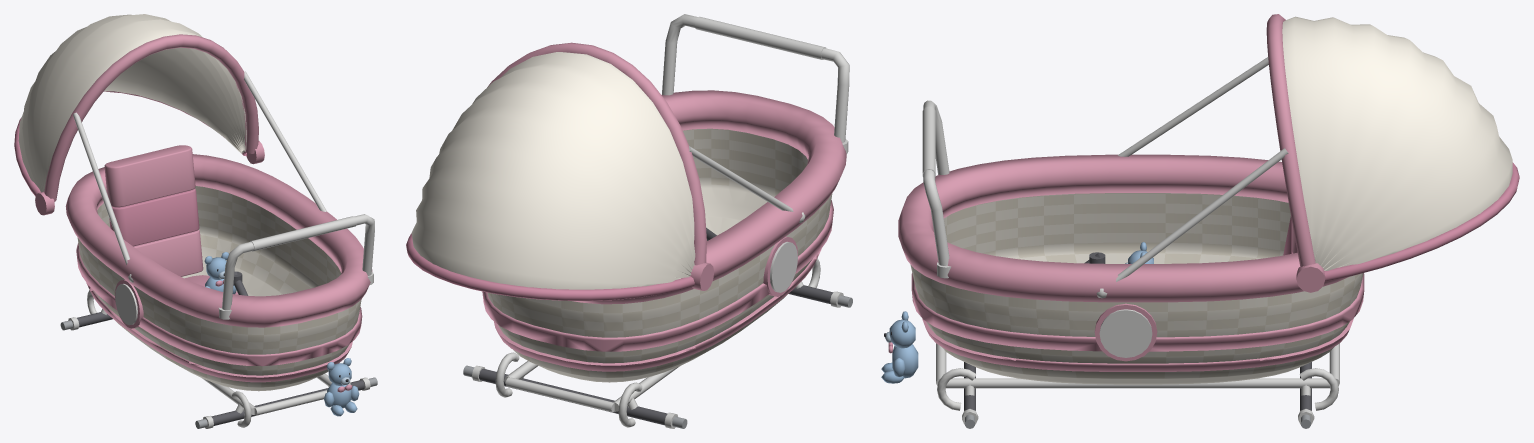
File: pram.glb
The picture shows the model from 3 angles, left to right: view 1: azimuth 30°, elevation 25°; view 2: azimuth 150°, elevation 25°; view 3: azimuth 270°, elevation 25°; orthographic projection. The views are drawn at different scales.
Parts seen in each view (by area): view 1: pram, pram_glass, pram_wreck, pram_sig; view 2: pram_glass, pram, pram_wreck; view 3: pram, pram_glass, pram_wreck.
Boxes of the visible parts, x1,y1,x2,y2 form: pram: (14, 34, 377, 428); pram_glass: (18, 14, 246, 192); pram_wreck: (60, 186, 377, 428); pram_sig: (204, 252, 236, 294); pram_glass: (411, 52, 695, 289); pram: (406, 14, 851, 428); pram_wreck: (463, 128, 852, 428); pram: (881, 14, 1519, 424); pram_glass: (1282, 16, 1512, 270); pram_wreck: (911, 193, 1364, 428).
Bounding box in the file's own units: 1.31 × 1.63 × 2.66.
